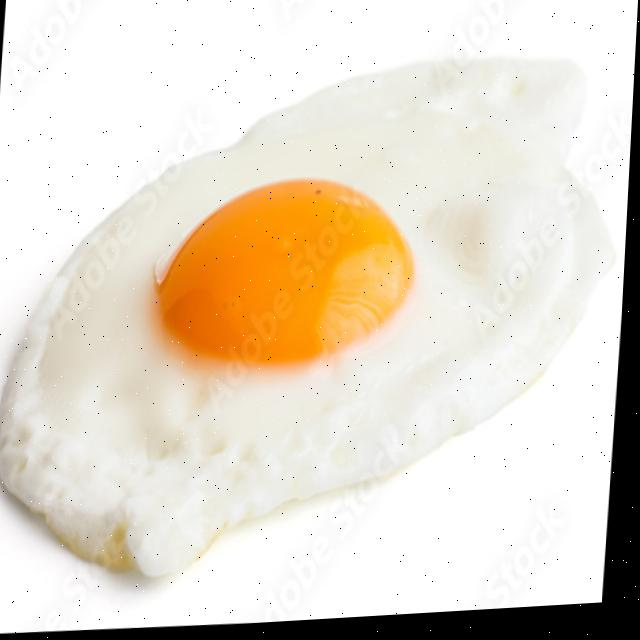Egg: (3, 66, 616, 577)
